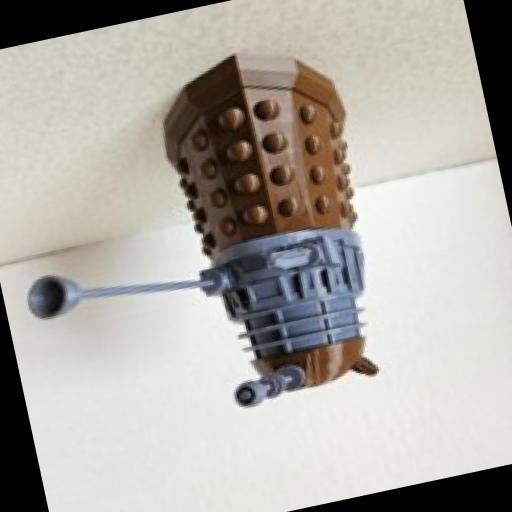dalek: (0, 34, 402, 451)
